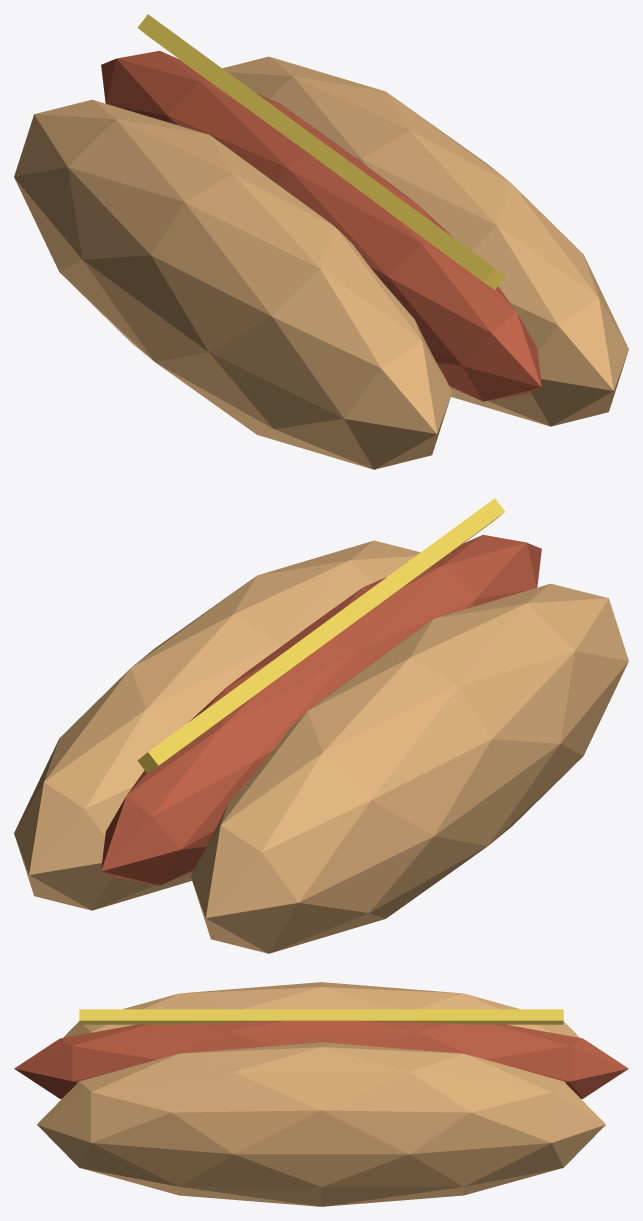
The model's file is HotDog.fbx.
The picture shows the model from 3 angles, top to bottom: view 1: azimuth 30°, elevation 25°; view 2: azimuth 150°, elevation 25°; view 3: azimuth 270°, elevation 25°; orthographic projection. The views are drawn at different scales.
Visible parts, largest first — view 1: Bun0.025, Bun-0.025, Sausage, Mustard; view 2: Bun0.025, Bun-0.025, Sausage, Mustard; view 3: Bun-0.025, Sausage, Bun0.025, Mustard.
Part boxes in pixels (x1,y1,x2,y2): Bun0.025: (14,99,451,469); Bun-0.025: (222,56,628,426); Sausage: (101,50,541,401); Mustard: (137,14,505,289); Bun0.025: (191,583,628,953); Bun-0.025: (14,540,420,910); Sausage: (101,534,541,885); Mustard: (137,498,505,773); Bun-0.025: (37,1042,605,1206); Sausage: (14,1021,628,1098); Bun0.025: (63,982,579,1037); Mustard: (79,1009,563,1024).
Bounding box in the file's own units: 0.0995 × 0.063 × 0.216.
